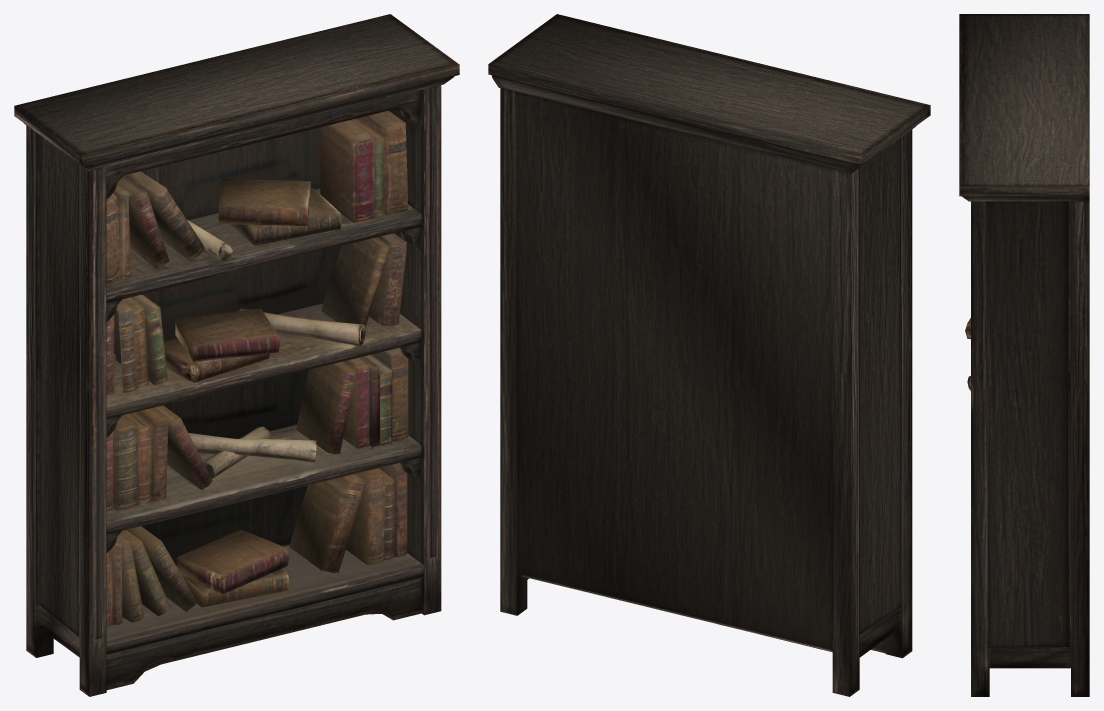
File: scaffale.glb
3 views of the same model, side by side, from view 1: azimuth 30°, elevation 25°; view 2: azimuth 150°, elevation 25°; view 3: azimuth 270°, elevation 25° (orthographic). The views are drawn at different scales.
Parts seen in each view (by area): view 1: scaffale; view 2: scaffale; view 3: scaffale.
Boxes of the visible parts, <box> form: scaffale: <box>14,14,459,696</box>; scaffale: <box>488,14,930,696</box>; scaffale: <box>959,14,1089,696</box>.
Bounding box in the file's own units: 0.7183 × 0.9995 × 0.229.
1 material, 1 textured.
